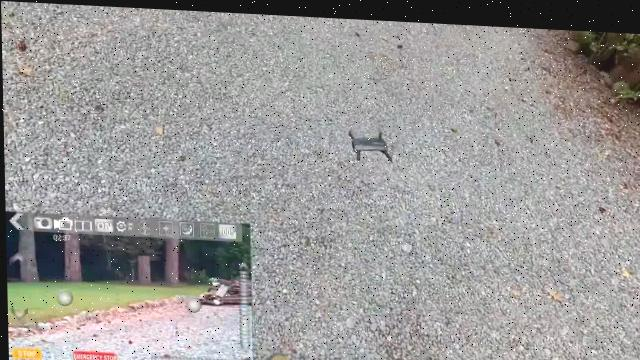drone: (6, 338, 640, 360)
